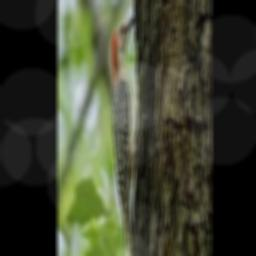Woodpecker: (112, 14, 148, 256)
